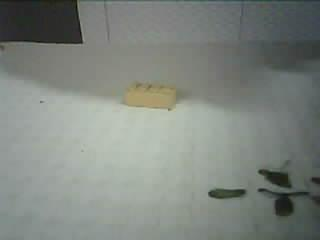lego: (122, 80, 178, 111)
